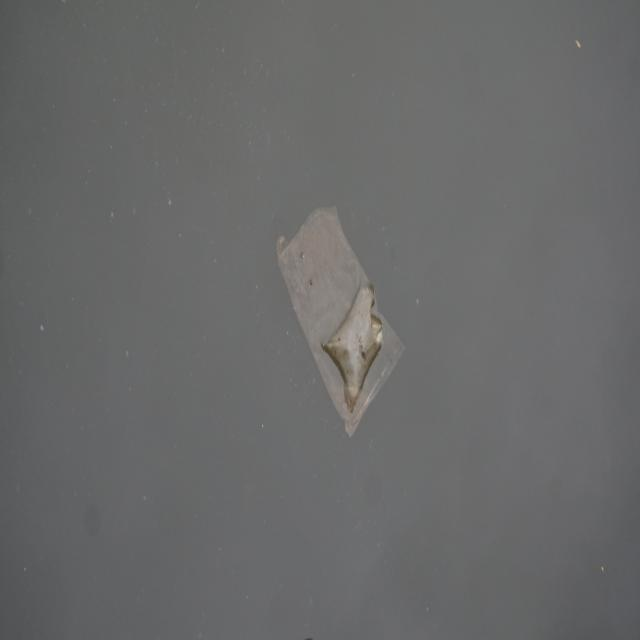Kantong Plastik: (276, 198, 408, 441)
